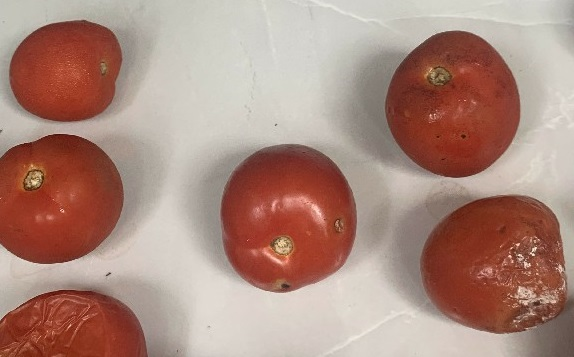NG: (205, 136, 363, 295), (415, 188, 569, 334), (385, 22, 522, 182), (0, 284, 151, 357)
OK: (0, 128, 124, 268), (8, 15, 124, 124)
